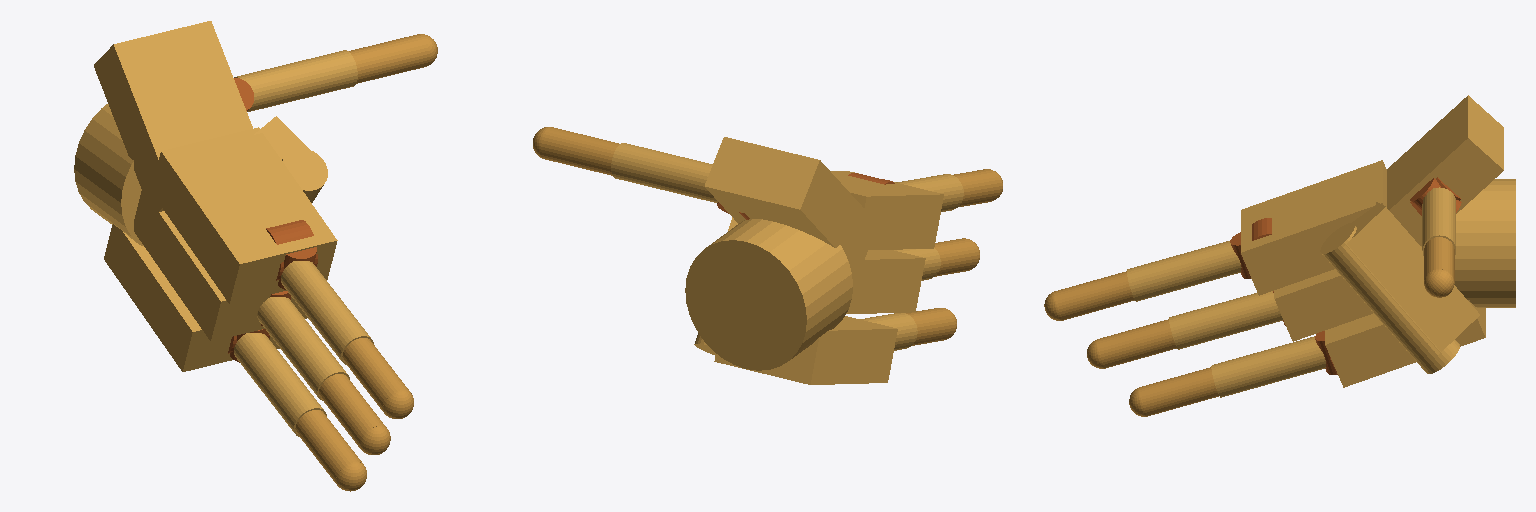
--- What the picture shows (computed from the rendered views, not written in the file) ---
Views: 3 orthographic renders of the robot side by side, from view 1: azimuth 30°, elevation 25°; view 2: azimuth 150°, elevation 25°; view 3: azimuth 270°, elevation 25°.
Robot: atlas_sandia_hands — 30 links, 29 joints (12 revolute, 17 fixed); root link r_hand; default pose: all joints at 0.
Visible links, largest first — view 1: right_palm, right_f3_1, right_f0_1, right_f2_1, right_f1_1, right_f1_2, right_f2_2, right_f0_2, right_f3_2, right_f0_0; view 2: right_palm, right_f3_1, right_f3_2, right_f0_2, right_f2_2, right_f1_2, right_f0_1, right_f2_1, right_f1_1; view 3: right_palm, right_f2_1, right_f0_1, right_f1_1, right_f0_2, right_f2_2, right_f1_2, right_f3_1, right_f3_2, right_f0_0.
Link boxes in pixels (<box>): right_palm: <box>74,21,337,371</box>; right_f3_1: <box>234,50,357,111</box>; right_f0_1: <box>281,261,373,364</box>; right_f2_1: <box>234,333,326,436</box>; right_f1_1: <box>257,297,349,400</box>; right_f1_2: <box>319,374,390,454</box>; right_f2_2: <box>295,410,366,491</box>; right_f0_2: <box>342,338,413,418</box>; right_f3_2: <box>349,34,437,83</box>; right_f0_0: <box>266,220,317,289</box>; right_palm: <box>685,137,943,384</box>; right_f3_1: <box>611,143,717,202</box>; right_f3_2: <box>533,127,619,175</box>; right_f0_2: <box>953,169,1002,206</box>; right_f2_2: <box>906,308,956,345</box>; right_f1_2: <box>934,238,979,276</box>; right_f0_1: <box>896,174,963,211</box>; right_f2_1: <box>860,313,917,350</box>; right_f1_1: <box>894,248,940,280</box>; right_palm: <box>1241,95,1515,387</box>; right_f2_1: <box>1211,336,1325,397</box>; right_f0_1: <box>1127,241,1241,301</box>; right_f1_1: <box>1169,291,1282,349</box>; right_f0_2: <box>1044,271,1134,320</box>; right_f2_2: <box>1129,367,1218,416</box>; right_f1_2: <box>1087,319,1176,368</box>; right_f3_1: <box>1422,187,1455,255</box>; right_f3_2: <box>1424,237,1454,297</box>; right_f0_0: <box>1230,218,1271,278</box>.
Size in the robot's own frame: 0.196 by 0.2782 by 0.1924 metres.
Geometry: primitives only (box / cylinder / sphere), no mesh files.

robot.urdf — atlas_sandia_hands:
<?xml version="1.0" ?>
<!-- =================================================================================== -->
<!-- |    This document was autogenerated by xacro from /tmp/buildd/drcsim-nightly-2.4.0~hg20130418r510de8699c3e/ros/atlas_description/robots/atlas_sandia_hands.urdf.xacro | -->
<!-- |    EDITING THIS FILE BY HAND IS NOT RECOMMENDED                                 | -->
<!-- =================================================================================== -->
<robot name="atlas_sandia_hands" xmlns:xacro="http://www.ros.org/wiki/xacro">
  <link name="r_hand">
    <origin rpy="0 0 0" xyz="0 0 0"/>
  </link>
  <link name="right_palm">
    <origin rpy="0 0 0" xyz="0 0 0"/>
    <inertial>
      <mass value="1.303"/>
      <origin xyz="0 0 0"/>
      <!-- solid sphere with 5cm radius -->
      <inertia ixx="0.001303" ixy="0" ixz="0" iyy="0.001303" iyz="0" izz="0.001303"/>
    </inertial>
    <!-- begin simple shape approximation of palm -->
    <collision group="default">
      <origin rpy="0 1.57079632679 -0.9" xyz="0.069 0.016 0.038"/>
      <geometry>
        <cylinder length="0.100" radius="0.013"/>
      </geometry>
    </collision>
    <collision group="other">
      <origin rpy="0.41 0 -0.9" xyz="0.064 0.008 0.021"/>
      <geometry>
        <box size="0.09 .035 .05"/>
      </geometry>
    </collision>
    <collision group="other">
      <origin rpy="0 1.57079632679 0" xyz="0.02 0 -0.005"/>
      <geometry>
        <cylinder length="0.05" radius="0.038"/>
      </geometry>
    </collision>
    <collision group="other">
      <origin rpy="0 0 0.37" xyz="0.11 -0.01 -0.005"/>
      <geometry>
        <box size="0.09 .03 .06"/>
      </geometry>
    </collision>
    <collision group="other">
      <origin rpy="0 0 0.37" xyz="0.09 0.02 -0.005"/>
      <geometry>
        <box size="0.09 .03 .06"/>
      </geometry>
    </collision>
    <collision group="other">
      <origin rpy="0 0 0.37" xyz="0.060 0.05 -0.005"/>
      <geometry>
        <box size="0.09 .03 .06"/>
      </geometry>
    </collision>
    <collision group="other">
      <origin rpy="0 0 0.79" xyz="0.044 -0.04 -0.005"/>
      <geometry>
        <box size="0.09 .03 .06"/>
      </geometry>
    </collision>
    <!--   end simple shape approximation of palm -->
    <!-- begin visual shape approximation of palm -->
    <visual>
      <origin rpy="0 1.57079632679 -0.9" xyz="0.069 0.016 0.038"/>
      <geometry>
        <cylinder length="0.100" radius="0.013"/>
      </geometry>
      <material name="right_sandia_hand_skin">
        <color rgba="0.835 0.655 0.345 1.0"/>
      </material>
    </visual>
    <visual>
      <origin rpy="0.41 0 -0.9" xyz="0.064 0.008 0.021"/>
      <geometry>
        <box size="0.09 .035 .05"/>
      </geometry>
      <material name="right_sandia_hand_skin">
        <color rgba="0.835 0.655 0.345 1.0"/>
      </material>
    </visual>
    <visual>
      <origin rpy="0 1.57079632679 0" xyz="0.02 0 -0.005"/>
      <geometry>
        <cylinder length="0.05" radius="0.038"/>
      </geometry>
      <material name="right_sandia_hand_skin">
        <color rgba="0.835 0.655 0.345 1.0"/>
      </material>
    </visual>
    <visual>
      <origin rpy="0 0 0.37" xyz="0.11 -0.01 -0.005"/>
      <geometry>
        <box size="0.09 .03 .06"/>
      </geometry>
      <material name="right_sandia_hand_skin">
        <color rgba="0.835 0.655 0.345 1.0"/>
      </material>
    </visual>
    <visual>
      <origin rpy="0 0 0.37" xyz="0.09 0.02 -0.005"/>
      <geometry>
        <box size="0.09 .03 .06"/>
      </geometry>
      <material name="right_sandia_hand_skin">
        <color rgba="0.835 0.655 0.345 1.0"/>
      </material>
    </visual>
    <visual>
      <origin rpy="0 0 0.37" xyz="0.060 0.05 -0.005"/>
      <geometry>
        <box size="0.09 .03 .06"/>
      </geometry>
      <material name="right_sandia_hand_skin">
        <color rgba="0.835 0.655 0.345 1.0"/>
      </material>
    </visual>
    <visual>
      <origin rpy="0 0 0.79" xyz="0.044 -0.04 -0.005"/>
      <geometry>
        <box size="0.09 .03 .06"/>
      </geometry>
      <material name="right_sandia_hand_skin">
        <color rgba="0.835 0.655 0.345 1.0"/>
      </material>
    </visual>
    <!--   end visual shape approximation of palm -->
    <!-- begin collision mesh of f2 ->
      <collision group="default">
        <origin xyz="0 0 0" rpy="0 0 0"/>
        <geometry>
          <mesh filename="package://sandia_hand_description/meshes/palm.stl"/>
        </geometry>
      </collision>
      <!-   end collision mesh of f2 -->
    <!-- begin visual mesh of f2    ->
      <visual>
        <origin xyz="0 0 0" rpy="0 0 0"/>
        <geometry>
          <mesh filename="package://sandia_hand_description/meshes/palm.stl"/>
        </geometry>
        <material name="${side}_sandia_hand_skin">
          <color rgba="0.835 0.655 0.345 1.0"/>
        </material>
      </visual>
      <!-   end visual mesh of f2 -->
  </link>
  <joint name="right_sandia_hand_joint" type="fixed">
    <parent link="r_hand"/>
    <child link="right_palm"/>
    <origin rpy="-1.57079 0 -1.57079" xyz="0 -0.1 0"/>
  </joint>
  <link name="right_f0_base">
    <origin rpy="0 0 0" xyz="0 0 0"/>
    <inertial>
      <!-- total mass is 2.303 kg, palm is about 1.303 kg, distribute the rest into _base -->
      <mass value="0.250"/>
      <!-- (2.303 - 1.303) / 4 -->
      <origin xyz="0 0 0"/>
      <!-- model as sphere with radius of 1cm -->
      <inertia ixx="0.00001" ixy="0" ixz="0" iyy="0.00001" iyz="0" izz="0.00001"/>
    </inertial>
  </link>
  <link name="right_f0_fixed_accel">
    <origin rpy="0 0 0" xyz="0 0 0"/>
    <inertial>
      <mass value="0.01"/>
      <origin xyz="0 0 0"/>
      <inertia ixx="0.000001" ixy="0" ixz="0" iyy="0.000001" iyz="0" izz="0.000001"/>
    </inertial>
  </link>
  <link name="right_f0_0">
    <origin rpy="0 0 0" xyz="0 0 0"/>
    <inertial>
      <mass value="0.106"/>
      <!-- F1 -->
      <origin xyz="0 0 0"/>
      <!-- solid cylinder -->
      <inertia ixx="0.000011925" ixy="0" ixz="0" iyy="0.00011505" iyz="0" izz="0.00011505"/>
    </inertial>
    <!-- begin simple shape approximation of f0 -->
    <collision group="default">
      <origin rpy="0 0 0" xyz="0 0 0.003"/>
      <geometry>
        <cylinder length="0.023" radius="0.015"/>
      </geometry>
    </collision>
    <collision group="other">
      <origin rpy="1.57079632679 0 0" xyz="0.011 0 0.003"/>
      <geometry>
        <cylinder length="0.023" radius="0.01"/>
      </geometry>
    </collision>
    <!--   end simple shape approximation of f0 -->
    <!-- begin visual shape approximation of f0 -->
    <visual>
      <origin rpy="0 0 0" xyz="0 0 0.003"/>
      <geometry>
        <cylinder length="0.023" radius="0.015"/>
      </geometry>
      <material name="right_sandia_hand_skin_suntan">
        <color rgba="0.7 0.4 0.2 1.0"/>
      </material>
    </visual>
    <visual>
      <origin rpy="1.57079632679 0 0" xyz="0.011 0 0.003"/>
      <geometry>
        <cylinder length="0.023" radius="0.01"/>
      </geometry>
      <material name="right_sandia_hand_skin_suntan">
        <color rgba="0.7 0.4 0.2 1.0"/>
      </material>
    </visual>
    <!--   end visual shape approximation of f0 -->
    <!-- begin collision mesh of f0 ->
      <collision group="default">
        <origin xyz="0 0 0" rpy="0 0 0"/>
        <geometry>
          <mesh filename="package://sandia_hand_description/meshes/f0.stl"/>
        </geometry>
      </collision>
      <!-   end collision mesh of f0 -->
    <!-- begin visual mesh of f0 ->
      <visual>
        <origin xyz="0 0 0" rpy="0 0 0"/>
        <geometry>
          <mesh filename="package://sandia_hand_description/meshes/f0.stl"/>
        </geometry>
        <material name="${side}_sandia_hand_skin_suntan">
          <color rgba="0.7 0.4 0.2 1.0"/>
        </material>
      </visual>
      <!-   end visual mesh of f0 -->
  </link>
  <link name="right_f0_1">
    <origin rpy="0 0 0" xyz="0 0 0"/>
    <inertial>
      <mass value="0.033"/>
      <!-- F2 -->
      <origin xyz="0 0 0"/>
      <!-- solid cylinder -->
      <inertia ixx="0.00000165" ixy="0" ixz="0" iyy="0.00001316975" iyz="0" izz="0.00001316975"/>
    </inertial>
    <!-- begin simple shape approximation of f1 -->
    <collision group="default">
      <origin rpy="0 1.57079632679 0" xyz="0.024 0 0"/>
      <geometry>
        <cylinder length="0.067" radius="0.01"/>
      </geometry>
    </collision>
    <!--   end simple shape approximation of f1 -->
    <!-- begin visual shape approximation of f1 -->
    <visual>
      <origin rpy="0 1.57079632679 0" xyz="0.024 0 0"/>
      <geometry>
        <cylinder length="0.067" radius="0.01"/>
      </geometry>
      <material name="right_sandia_hand_skin">
        <color rgba="0.835 0.655 0.345 1.0"/>
      </material>
    </visual>
    <!--   end visual shape approximation of f1 -->
    <!-- begin collision mesh of f1 ->
      <collision group="default">
        <origin xyz="0 0 0" rpy="0 0 0"/>
        <geometry>
          <mesh filename="package://sandia_hand_description/meshes/f1.stl"/>
        </geometry>
      </collision>
      <!-   end collision mesh of f1 -->
    <!-- begin visual mesh of f1 ->
      <visual>
        <origin xyz="0 0 0" rpy="0 0 0"/>
        <geometry>
          <mesh filename="package://sandia_hand_description/meshes/f1.stl"/>
        </geometry>
        <material name="${side}_sandia_hand_skin">
          <color rgba="0.835 0.655 0.345 1.0"/>
        </material>
      </visual>
      <!-   end visual mesh of f1 -->
  </link>
  <link name="right_f0_1_accel">
    <origin rpy="0 0 0" xyz="0 0 0"/>
    <inertial>
      <mass value="0.01"/>
      <origin xyz="0 0 0"/>
      <inertia ixx="0.000001" ixy="0" ixz="0" iyy="0.000001" iyz="0" izz="0.000001"/>
    </inertial>
  </link>
  <link name="right_f0_2">
    <origin rpy="0 0 0" xyz="0 0 0"/>
    <inertial>
      <mass value="0.033"/>
      <!-- F3 -->
      <origin xyz="0 0 0"/>
      <!-- solid cylinder -->
      <inertia ixx="0.0000013365" ixy="0" ixz="0" iyy="0.000009603" iyz="0" izz="0.000009603"/>
    </inertial>
    <!-- begin simple shape approximation of f2 -->
    <collision group="default">
      <origin rpy="0 1.57079632679 0" xyz="0.024 0 0"/>
      <geometry>
        <cylinder length="0.057" radius="0.009"/>
      </geometry>
    </collision>
    <collision group="other">
      <origin rpy="0 0 0" xyz="0.052 0 0"/>
      <geometry>
        <sphere radius="0.009"/>
      </geometry>
    </collision>
    <!--   end simple shape approximation of f2 -->
    <!-- begin visual shape approximation of f2 -->
    <visual>
      <origin rpy="0 1.57079632679 0" xyz="0.024 0 0"/>
      <geometry>
        <cylinder length="0.057" radius="0.009"/>
      </geometry>
      <material name="right_sandia_hand_skin_suntan">
        <color rgba="0.8 0.6 0.3 1.0"/>
      </material>
    </visual>
    <visual>
      <origin rpy="0 0 0" xyz="0.052 0 0"/>
      <geometry>
        <sphere radius="0.009"/>
      </geometry>
      <material name="right_sandia_hand_skin_suntan">
        <color rgba="0.8 0.6 0.3 1.0"/>
      </material>
    </visual>
    <!-- begin collision mesh of f2    ->
      <collision group="default">
        <origin xyz="0 0 0" rpy="0 0 0"/>
        <geometry>
          <mesh filename="package://sandia_hand_description/meshes/f2.stl"/>
        </geometry>
      </collision>
      <!-   end collision mesh of f2 -->
    <!-- begin visual mesh of f2    ->
      <visual>
        <origin xyz="0 0 0" rpy="0 0 0"/>
        <geometry>
          <mesh filename="package://sandia_hand_description/meshes/f2.stl"/>
        </geometry>
        <material name="${side}_sandia_hand_skin_suntan">
          <color rgba="0.8 0.6 0.3 1.0"/>
        </material>
      </visual>
      <!-   end visual mesh of f2 -->
  </link>
  <link name="right_f0_2_accel">
    <origin rpy="0 0 0" xyz="0 0 0"/>
    <inertial>
      <mass value="0.01"/>
      <origin xyz="0 0 0"/>
      <inertia ixx="0.000001" ixy="0" ixz="0" iyy="0.000001" iyz="0" izz="0.000001"/>
    </inertial>
  </link>
  <joint name="right_f0_base" type="fixed">
    <parent link="right_palm"/>
    <child link="right_f0_base"/>
    <origin rpy="0 0 0.3" xyz="0.14 0.0 0"/>
  </joint>
  <joint name="right_f0_j0" type="revolute">
    <axis xyz="0 0 1"/>
    <parent link="right_f0_base"/>
    <child link="right_f0_0"/>
    <limit effort="11" lower="-1.57079632679" upper="1.57079632679" velocity="100"/>
    <safety_controller k_position="1000.0" k_velocity="1000.0" soft_lower_limit="-11.57079" soft_upper_limit="11.57079"/>
    <dynamics damping="30"/>
    <origin rpy="0 0 0" xyz="0 0 0"/>
  </joint>
  <joint name="right_f0_j1" type="revolute">
    <axis xyz="0 0 1"/>
    <parent link="right_f0_0"/>
    <child link="right_f0_1"/>
    <limit effort="28" lower="-1.57079632679" upper="1.57079632679" velocity="100"/>
    <safety_controller k_position="1000.0" k_velocity="1000.0" soft_lower_limit="-11.57079" soft_upper_limit="11.57079"/>
    <dynamics damping="30"/>
    <origin rpy="1.57079632679 0 0" xyz="0.028 0 0"/>
  </joint>
  <joint name="right_f0_j2" type="revolute">
    <axis xyz="0 0 1"/>
    <parent link="right_f0_1"/>
    <child link="right_f0_2"/>
    <origin rpy="0 0 0" xyz="0.05 0 0"/>
    <safety_controller k_position="1000.0" k_velocity="1000.0" soft_lower_limit="-11.57079" soft_upper_limit="11.57079"/>
    <dynamics damping="30"/>
    <limit effort="28" lower="-1.57079632679" upper="1.57079632679" velocity="100"/>
  </joint>
  <joint name="right_f0_fixed_accel" type="fixed">
    <parent link="right_f0_base"/>
    <child link="right_f0_fixed_accel"/>
    <origin rpy="0 0 0" xyz="-0.05 0 0"/>
  </joint>
  <joint name="right_f0_1_accel" type="fixed">
    <parent link="right_f0_1"/>
    <child link="right_f0_1_accel"/>
    <origin rpy="-1.57079632679 0 0" xyz="0.03 0 0"/>
  </joint>
  <joint name="right_f0_2_accel" type="fixed">
    <parent link="right_f0_2"/>
    <child link="right_f0_2_accel"/>
    <origin rpy="-1.57079632679 0 0" xyz="0.04 0 0"/>
  </joint>
  <transmission name="right_f0_j0" type="pr2_mechanism_model/SimpleTransmission">
    <joint name="right_f0_j0"/>
    <actuator name="right_f0_j0_motor"/>
    <mechanicalReduction>1</mechanicalReduction>
  </transmission>
  <transmission name="right_f0_j1" type="pr2_mechanism_model/SimpleTransmission">
    <joint name="right_f0_j1"/>
    <actuator name="right_f0_j1_motor"/>
    <mechanicalReduction>1</mechanicalReduction>
  </transmission>
  <transmission name="right_f0_j2" type="pr2_mechanism_model/SimpleTransmission">
    <joint name="right_f0_j2"/>
    <actuator name="right_f0_j2_motor"/>
    <mechanicalReduction>1</mechanicalReduction>
  </transmission>
  <gazebo reference="right_f0_base">
    <mu1>0.9</mu1>
    <mu2>0.9</mu2>
    <kp>1000000000.0</kp>
    <kd>1.0</kd>
    <maxVel>0.1</maxVel>
    <minDepth>0.0</minDepth>
  </gazebo>
  <gazebo reference="right_f0_0">
    <mu1>0.9</mu1>
    <mu2>0.9</mu2>
    <kp>1000000000.0</kp>
    <kd>1.0</kd>
    <maxVel>0.1</maxVel>
    <minDepth>0.0</minDepth>
  </gazebo>
  <gazebo reference="right_f0_1">
    <mu1>0.9</mu1>
    <mu2>0.9</mu2>
    <kp>1000000000.0</kp>
    <kd>1.0</kd>
    <maxVel>1.0</maxVel>
    <minDepth>0.0</minDepth>
  </gazebo>
  <gazebo reference="right_f0_2">
    <mu1>0.9</mu1>
    <mu2>0.9</mu2>
    <kp>1000000000.0</kp>
    <kd>1.0</kd>
    <maxVel>1.0</maxVel>
    <minDepth>0.0</minDepth>
  </gazebo>
  <gazebo reference="right_f0_j0">
    <cfmDamping>1</cfmDamping>
  </gazebo>
  <gazebo reference="right_f0_j1">
    <cfmDamping>1</cfmDamping>
  </gazebo>
  <gazebo reference="right_f0_j2">
    <cfmDamping>1</cfmDamping>
  </gazebo>
  <link name="right_f1_base">
    <origin rpy="0 0 0" xyz="0 0 0"/>
    <inertial>
      <!-- total mass is 2.303 kg, palm is about 1.303 kg, distribute the rest into _base -->
      <mass value="0.250"/>
      <!-- (2.303 - 1.303) / 4 -->
      <origin xyz="0 0 0"/>
      <!-- model as sphere with radius of 1cm -->
      <inertia ixx="0.00001" ixy="0" ixz="0" iyy="0.00001" iyz="0" izz="0.00001"/>
    </inertial>
  </link>
  <link name="right_f1_fixed_accel">
    <origin rpy="0 0 0" xyz="0 0 0"/>
    <inertial>
      <mass value="0.01"/>
      <origin xyz="0 0 0"/>
      <inertia ixx="0.000001" ixy="0" ixz="0" iyy="0.000001" iyz="0" izz="0.000001"/>
    </inertial>
  </link>
  <link name="right_f1_0">
    <origin rpy="0 0 0" xyz="0 0 0"/>
    <inertial>
      <mass value="0.106"/>
      <!-- F1 -->
      <origin xyz="0 0 0"/>
      <!-- solid cylinder -->
      <inertia ixx="0.000011925" ixy="0" ixz="0" iyy="0.00011505" iyz="0" izz="0.00011505"/>
    </inertial>
    <!-- begin simple shape approximation of f0 -->
    <collision group="default">
      <origin rpy="0 0 0" xyz="0 0 0.003"/>
      <geometry>
        <cylinder length="0.023" radius="0.015"/>
      </geometry>
    </collision>
    <collision group="other">
      <origin rpy="1.57079632679 0 0" xyz="0.011 0 0.003"/>
      <geometry>
        <cylinder length="0.023" radius="0.01"/>
      </geometry>
    </collision>
    <!--   end simple shape approximation of f0 -->
    <!-- begin visual shape approximation of f0 -->
    <visual>
      <origin rpy="0 0 0" xyz="0 0 0.003"/>
      <geometry>
        <cylinder length="0.023" radius="0.015"/>
      </geometry>
      <material name="right_sandia_hand_skin_suntan">
        <color rgba="0.7 0.4 0.2 1.0"/>
      </material>
    </visual>
    <visual>
      <origin rpy="1.57079632679 0 0" xyz="0.011 0 0.003"/>
      <geometry>
        <cylinder length="0.023" radius="0.01"/>
      </geometry>
      <material name="right_sandia_hand_skin_suntan">
        <color rgba="0.7 0.4 0.2 1.0"/>
      </material>
    </visual>
    <!--   end visual shape approximation of f0 -->
    <!-- begin collision mesh of f0 ->
      <collision group="default">
        <origin xyz="0 0 0" rpy="0 0 0"/>
        <geometry>
          <mesh filename="package://sandia_hand_description/meshes/f0.stl"/>
        </geometry>
      </collision>
      <!-   end collision mesh of f0 -->
    <!-- begin visual mesh of f0 ->
      <visual>
        <origin xyz="0 0 0" rpy="0 0 0"/>
        <geometry>
          <mesh filename="package://sandia_hand_description/meshes/f0.stl"/>
        </geometry>
        <material name="${side}_sandia_hand_skin_suntan">
          <color rgba="0.7 0.4 0.2 1.0"/>
        </material>
      </visual>
      <!-   end visual mesh of f0 -->
  </link>
  <link name="right_f1_1">
    <origin rpy="0 0 0" xyz="0 0 0"/>
    <inertial>
      <mass value="0.033"/>
      <!-- F2 -->
      <origin xyz="0 0 0"/>
      <!-- solid cylinder -->
      <inertia ixx="0.00000165" ixy="0" ixz="0" iyy="0.00001316975" iyz="0" izz="0.00001316975"/>
    </inertial>
    <!-- begin simple shape approximation of f1 -->
    <collision group="default">
      <origin rpy="0 1.57079632679 0" xyz="0.024 0 0"/>
      <geometry>
        <cylinder length="0.067" radius="0.01"/>
      </geometry>
    </collision>
    <!--   end simple shape approximation of f1 -->
    <!-- begin visual shape approximation of f1 -->
    <visual>
      <origin rpy="0 1.57079632679 0" xyz="0.024 0 0"/>
      <geometry>
        <cylinder length="0.067" radius="0.01"/>
      </geometry>
      <material name="right_sandia_hand_skin">
        <color rgba="0.835 0.655 0.345 1.0"/>
      </material>
    </visual>
    <!--   end visual shape approximation of f1 -->
    <!-- begin collision mesh of f1 ->
      <collision group="default">
        <origin xyz="0 0 0" rpy="0 0 0"/>
        <geometry>
          <mesh filename="package://sandia_hand_description/meshes/f1.stl"/>
        </geometry>
      </collision>
      <!-   end collision mesh of f1 -->
    <!-- begin visual mesh of f1 ->
      <visual>
        <origin xyz="0 0 0" rpy="0 0 0"/>
        <geometry>
          <mesh filename="package://sandia_hand_description/meshes/f1.stl"/>
        </geometry>
        <material name="${side}_sandia_hand_skin">
          <color rgba="0.835 0.655 0.345 1.0"/>
        </material>
      </visual>
      <!-   end visual mesh of f1 -->
  </link>
  <link name="right_f1_1_accel">
    <origin rpy="0 0 0" xyz="0 0 0"/>
    <inertial>
      <mass value="0.01"/>
      <origin xyz="0 0 0"/>
      <inertia ixx="0.000001" ixy="0" ixz="0" iyy="0.000001" iyz="0" izz="0.000001"/>
    </inertial>
  </link>
  <link name="right_f1_2">
    <origin rpy="0 0 0" xyz="0 0 0"/>
    <inertial>
      <mass value="0.033"/>
      <!-- F3 -->
      <origin xyz="0 0 0"/>
      <!-- solid cylinder -->
      <inertia ixx="0.0000013365" ixy="0" ixz="0" iyy="0.000009603" iyz="0" izz="0.000009603"/>
    </inertial>
    <!-- begin simple shape approximation of f2 -->
    <collision group="default">
      <origin rpy="0 1.57079632679 0" xyz="0.024 0 0"/>
      <geometry>
        <cylinder length="0.057" radius="0.009"/>
      </geometry>
    </collision>
    <collision group="other">
      <origin rpy="0 0 0" xyz="0.052 0 0"/>
      <geometry>
        <sphere radius="0.009"/>
      </geometry>
    </collision>
    <!--   end simple shape approximation of f2 -->
    <!-- begin visual shape approximation of f2 -->
    <visual>
      <origin rpy="0 1.57079632679 0" xyz="0.024 0 0"/>
      <geometry>
        <cylinder length="0.057" radius="0.009"/>
      </geometry>
      <material name="right_sandia_hand_skin_suntan">
        <color rgba="0.8 0.6 0.3 1.0"/>
      </material>
    </visual>
    <visual>
      <origin rpy="0 0 0" xyz="0.052 0 0"/>
      <geometry>
        <sphere radius="0.009"/>
      </geometry>
      <material name="right_sandia_hand_skin_suntan">
        <color rgba="0.8 0.6 0.3 1.0"/>
      </material>
    </visual>
    <!-- begin collision mesh of f2    ->
      <collision group="default">
        <origin xyz="0 0 0" rpy="0 0 0"/>
        <geometry>
          <mesh filename="package://sandia_hand_description/meshes/f2.stl"/>
        </geometry>
      </collision>
      <!-   end collision mesh of f2 -->
    <!-- begin visual mesh of f2    ->
      <visual>
        <origin xyz="0 0 0" rpy="0 0 0"/>
        <geometry>
          <mesh filename="package://sandia_hand_description/meshes/f2.stl"/>
        </geometry>
        <material name="${side}_sandia_hand_skin_suntan">
          <color rgba="0.8 0.6 0.3 1.0"/>
        </material>
      </visual>
      <!-   end visual mesh of f2 -->
  </link>
  <link name="right_f1_2_accel">
    <origin rpy="0 0 0" xyz="0 0 0"/>
    <inertial>
      <mass value="0.01"/>
      <origin xyz="0 0 0"/>
      <inertia ixx="0.000001" ixy="0" ixz="0" iyy="0.000001" iyz="0" izz="0.000001"/>
    </inertial>
  </link>
  <joint name="right_f1_base" type="fixed">
    <parent link="right_palm"/>
    <child link="right_f1_base"/>
    <origin rpy="0 0 0.3" xyz="0.115 0.03122 0"/>
  </joint>
  <joint name="right_f1_j0" type="revolute">
    <axis xyz="0 0 1"/>
    <parent link="right_f1_base"/>
    <child link="right_f1_0"/>
    <limit effort="11" lower="-1.57079632679" upper="1.57079632679" velocity="100"/>
    <safety_controller k_position="1000.0" k_velocity="1000.0" soft_lower_limit="-11.57079" soft_upper_limit="11.57079"/>
    <dynamics damping="30"/>
    <origin rpy="0 0 0" xyz="0 0 0"/>
  </joint>
  <joint name="right_f1_j1" type="revolute">
    <axis xyz="0 0 1"/>
    <parent link="right_f1_0"/>
    <child link="right_f1_1"/>
    <limit effort="28" lower="-1.57079632679" upper="1.57079632679" velocity="100"/>
    <safety_controller k_position="1000.0" k_velocity="1000.0" soft_lower_limit="-11.57079" soft_upper_limit="11.57079"/>
    <dynamics damping="30"/>
    <origin rpy="1.57079632679 0 0" xyz="0.028 0 0"/>
  </joint>
  <joint name="right_f1_j2" type="revolute">
    <axis xyz="0 0 1"/>
    <parent link="right_f1_1"/>
    <child link="right_f1_2"/>
    <origin rpy="0 0 0" xyz="0.05 0 0"/>
    <safety_controller k_position="1000.0" k_velocity="1000.0" soft_lower_limit="-11.57079" soft_upper_limit="11.57079"/>
    <dynamics damping="30"/>
    <limit effort="28" lower="-1.57079632679" upper="1.57079632679" velocity="100"/>
  </joint>
  <joint name="right_f1_fixed_accel" type="fixed">
    <parent link="right_f1_base"/>
    <child link="right_f1_fixed_accel"/>
    <origin rpy="0 0 0" xyz="-0.05 0 0"/>
  </joint>
  <joint name="right_f1_1_accel" type="fixed">
    <parent link="right_f1_1"/>
    <child link="right_f1_1_accel"/>
    <origin rpy="-1.57079632679 0 0" xyz="0.03 0 0"/>
  </joint>
  <joint name="right_f1_2_accel" type="fixed">
    <parent link="right_f1_2"/>
    <child link="right_f1_2_accel"/>
    <origin rpy="-1.57079632679 0 0" xyz="0.04 0 0"/>
  </joint>
  <transmission name="right_f1_j0" type="pr2_mechanism_model/SimpleTransmission">
    <joint name="right_f1_j0"/>
    <actuator name="right_f1_j0_motor"/>
    <mechanicalReduction>1</mechanicalReduction>
  </transmission>
  <transmission name="right_f1_j1" type="pr2_mechanism_model/SimpleTransmission">
    <joint name="right_f1_j1"/>
    <actuator name="right_f1_j1_motor"/>
    <mechanicalReduction>1</mechanicalReduction>
  </transmission>
  <transmission name="right_f1_j2" type="pr2_mechanism_model/SimpleTransmission">
    <joint name="right_f1_j2"/>
    <actuator name="right_f1_j2_motor"/>
    <mechanicalReduction>1</mechanicalReduction>
  </transmission>
  <gazebo reference="right_f1_base">
    <mu1>0.9</mu1>
    <mu2>0.9</mu2>
    <kp>1000000000.0</kp>
    <kd>1.0</kd>
    <maxVel>0.1</maxVel>
    <minDepth>0.0</minDepth>
  </gazebo>
  <gazebo reference="right_f1_0">
    <mu1>0.9</mu1>
    <mu2>0.9</mu2>
    <kp>1000000000.0</kp>
    <kd>1.0</kd>
    <maxVel>0.1</maxVel>
    <minDepth>0.0</minDepth>
  </gazebo>
  <gazebo reference="right_f1_1">
    <mu1>0.9</mu1>
    <mu2>0.9</mu2>
    <kp>1000000000.0</kp>
    <kd>1.0</kd>
    <maxVel>1.0</maxVel>
    <minDepth>0.0</minDepth>
  </gazebo>
  <gazebo reference="right_f1_2">
    <mu1>0.9</mu1>
    <mu2>0.9</mu2>
    <kp>1000000000.0</kp>
    <kd>1.0</kd>
    <maxVel>1.0</maxVel>
    <minDepth>0.0</minDepth>
  </gazebo>
  <gazebo reference="right_f1_j0">
    <cfmDamping>1</cfmDamping>
  </gazebo>
  <gazebo reference="right_f1_j1">
    <cfmDamping>1</cfmDamping>
  </gazebo>
  <gazebo reference="right_f1_j2">
    <cfmDamping>1</cfmDamping>
  </gazebo>
  <link name="right_f2_base">
    <origin rpy="0 0 0" xyz="0 0 0"/>
    <inertial>
      <!-- total mass is 2.303 kg, palm is about 1.303 kg, distribute the rest into _base -->
      <mass value="0.250"/>
      <!-- (2.303 - 1.303) / 4 -->
      <origin xyz="0 0 0"/>
      <!-- model as sphere with radius of 1cm -->
      <inertia ixx="0.00001" ixy="0" ixz="0" iyy="0.00001" iyz="0" izz="0.00001"/>
    </inertial>
  </link>
  <link name="right_f2_fixed_accel">
    <origin rpy="0 0 0" xyz="0 0 0"/>
    <inertial>
      <mass value="0.01"/>
      <origin xyz="0 0 0"/>
      <inertia ixx="0.000001" ixy="0" ixz="0" iyy="0.000001" iyz="0" izz="0.000001"/>
    </inertial>
  </link>
  <link name="right_f2_0">
    <origin rpy="0 0 0" xyz="0 0 0"/>
    <inertial>
      <mass value="0.106"/>
      <!-- F1 -->
      <origin xyz="0 0 0"/>
      <!-- solid cylinder -->
      <inertia ixx="0.000011925" ixy="0" ixz="0" iyy="0.00011505" iyz="0" izz="0.00011505"/>
    </inertial>
    <!-- begin simple shape approximation of f0 -->
    <collision group="default">
      <origin rpy="0 0 0" xyz="0 0 0.003"/>
      <geometry>
        <cylinder length="0.023" radius="0.015"/>
      </geometry>
    </collision>
    <collision group="other">
      <origin rpy="1.57079632679 0 0" xyz="0.011 0 0.003"/>
      <geometry>
        <cylinder length="0.023" radius="0.01"/>
      </geometry>
    </collision>
    <!--   end simple shape approximation of f0 -->
    <!-- begin visual shape approximation of f0 -->
    <visual>
      <origin rpy="0 0 0" xyz="0 0 0.003"/>
      <geometry>
        <cylinder length="0.023" radius="0.015"/>
      </geometry>
      <material name="right_sandia_hand_skin_suntan">
        <color rgba="0.7 0.4 0.2 1.0"/>
      </material>
    </visual>
    <visual>
      <origin rpy="1.57079632679 0 0" xyz="0.011 0 0.003"/>
      <geometry>
        <cylinder length="0.023" radius="0.01"/>
      </geometry>
      <material name="right_sandia_hand_skin_suntan">
        <color rgba="0.7 0.4 0.2 1.0"/>
      </material>
    </visual>
    <!--   end visual shape approximation of f0 -->
    <!-- begin collision mesh of f0 ->
      <collision group="default">
        <origin xyz="0 0 0" rpy="0 0 0"/>
        <geometry>
          <mesh filename="package://sandia_hand_description/meshes/f0.stl"/>
        </geometry>
      </collision>
      <!-   end collision mesh of f0 -->
    <!-- begin visual mesh of f0 ->
      <visual>
        <origin xyz="0 0 0" rpy="0 0 0"/>
        <geometry>
          <mesh filename="package://sandia_hand_description/meshes/f0.stl"/>
        </geometry>
        <material name="${side}_sandia_hand_skin_suntan">
          <color rgba="0.7 0.4 0.2 1.0"/>
        </material>
      </visual>
      <!-   end visual mesh of f0 -->
  </link>
  <link name="right_f2_1">
    <origin rpy="0 0 0" xyz="0 0 0"/>
    <inertial>
      <mass value="0.033"/>
      <!-- F2 -->
      <origin xyz="0 0 0"/>
      <!-- solid cylinder -->
      <inertia ixx="0.00000165" ixy="0" ixz="0" iyy="0.00001316975" iyz="0" izz="0.00001316975"/>
    </inertial>
    <!-- begin simple shape approximation of f1 -->
    <collision group="default">
      <origin rpy="0 1.57079632679 0" xyz="0.024 0 0"/>
      <geometry>
        <cylinder length="0.067" radius="0.01"/>
      </geometry>
    </collision>
    <!--   end simple shape approximation of f1 -->
    <!-- begin visual shape approximation of f1 -->
    <visual>
      <origin rpy="0 1.57079632679 0" xyz="0.024 0 0"/>
      <geometry>
        <cylinder length="0.067" radius="0.01"/>
      </geometry>
      <material name="right_sandia_hand_skin">
        <color rgba="0.835 0.655 0.345 1.0"/>
      </material>
    </visual>
    <!--   end visual shape approximation of f1 -->
    <!-- begin collision mesh of f1 ->
      <collision group="default">
        <origin xyz="0 0 0" rpy="0 0 0"/>
        <geometry>
          <mesh filename="package://sandia_hand_description/meshes/f1.stl"/>
        </geometry>
      </collision>
      <!-   end collision mesh of f1 -->
    <!-- begin visual mesh of f1 ->
      <visual>
        <origin xyz="0 0 0" rpy="0 0 0"/>
        <geometry>
          <mesh filename="package://sandia_hand_description/meshes/f1.stl"/>
        </geometry>
        <material name="${side}_sandia_hand_skin">
          <color rgba="0.835 0.655 0.345 1.0"/>
        </material>
      </visual>
      <!-   end visual mesh of f1 -->
  </link>
  <link name="right_f2_1_accel">
    <origin rpy="0 0 0" xyz="0 0 0"/>
    <inertial>
      <mass value="0.01"/>
      <origin xyz="0 0 0"/>
      <inertia ixx="0.000001" ixy="0" ixz="0" iyy="0.000001" iyz="0" izz="0.000001"/>
    </inertial>
  </link>
  <link name="right_f2_2">
    <origin rpy="0 0 0" xyz="0 0 0"/>
    <inertial>
      <mass value="0.033"/>
      <!-- F3 -->
      <origin xyz="0 0 0"/>
      <!-- solid cylinder -->
      <inertia ixx="0.0000013365" ixy="0" ixz="0" iyy="0.000009603" iyz="0" izz="0.000009603"/>
    </inertial>
    <!-- begin simple shape approximation of f2 -->
    <collision group="default">
      <origin rpy="0 1.57079632679 0" xyz="0.024 0 0"/>
      <geometry>
        <cylinder length="0.057" radius="0.009"/>
      </geometry>
    </collision>
    <collision group="other">
      <origin rpy="0 0 0" xyz="0.052 0 0"/>
      <geometry>
        <sphere radius="0.009"/>
      </geometry>
    </collision>
    <!--   end simple shape approximation of f2 -->
    <!-- begin visual shape approximation of f2 -->
    <visual>
      <origin rpy="0 1.57079632679 0" xyz="0.024 0 0"/>
      <geometry>
        <cylinder length="0.057" radius="0.009"/>
      </geometry>
      <material name="right_sandia_hand_skin_suntan">
        <color rgba="0.8 0.6 0.3 1.0"/>
      </material>
    </visual>
    <visual>
      <origin rpy="0 0 0" xyz="0.052 0 0"/>
      <geometry>
        <sphere radius="0.009"/>
      </geometry>
      <material name="right_sandia_hand_skin_suntan">
        <color rgba="0.8 0.6 0.3 1.0"/>
      </material>
    </visual>
    <!-- begin collision mesh of f2    ->
      <collision group="default">
        <origin xyz="0 0 0" rpy="0 0 0"/>
        <geometry>
          <mesh filename="package://sandia_hand_description/meshes/f2.stl"/>
        </geometry>
      </collision>
      <!-   end collision mesh of f2 -->
    <!-- begin visual mesh of f2    ->
      <visual>
        <origin xyz="0 0 0" rpy="0 0 0"/>
        <geometry>
          <mesh filename="package://sandia_hand_description/meshes/f2.stl"/>
        </geometry>
        <material name="${side}_sandia_hand_skin_suntan">
          <color rgba="0.8 0.6 0.3 1.0"/>
        </material>
      </visual>
      <!-   end visual mesh of f2 -->
  </link>
  <link name="right_f2_2_accel">
    <origin rpy="0 0 0" xyz="0 0 0"/>
    <inertial>
      <mass value="0.01"/>
      <origin xyz="0 0 0"/>
      <inertia ixx="0.000001" ixy="0" ixz="0" iyy="0.000001" iyz="0" izz="0.000001"/>
    </inertial>
  </link>
  <joint name="right_f2_base" type="fixed">
    <parent link="right_palm"/>
    <child link="right_f2_base"/>
    <origin rpy="0 0 0.3" xyz="0.09 0.06245 0"/>
  </joint>
  <joint name="right_f2_j0" type="revolute">
    <axis xyz="0 0 1"/>
    <parent link="right_f2_base"/>
    <child link="right_f2_0"/>
    <limit effort="11" lower="-1.57079632679" upper="1.57079632679" velocity="100"/>
    <safety_controller k_position="1000.0" k_velocity="1000.0" soft_lower_limit="-11.57079" soft_upper_limit="11.57079"/>
    <dynamics damping="30"/>
    <origin rpy="0 0 0" xyz="0 0 0"/>
  </joint>
  <joint name="right_f2_j1" type="revolute">
    <axis xyz="0 0 1"/>
    <parent link="right_f2_0"/>
    <child link="right_f2_1"/>
    <limit effort="28" lower="-1.57079632679" upper="1.57079632679" velocity="100"/>
    <safety_controller k_position="1000.0" k_velocity="1000.0" soft_lower_limit="-11.57079" soft_upper_limit="11.57079"/>
    <dynamics damping="30"/>
    <origin rpy="1.57079632679 0 0" xyz="0.028 0 0"/>
  </joint>
  <joint name="right_f2_j2" type="revolute">
    <axis xyz="0 0 1"/>
    <parent link="right_f2_1"/>
    <child link="right_f2_2"/>
    <origin rpy="0 0 0" xyz="0.05 0 0"/>
    <safety_controller k_position="1000.0" k_velocity="1000.0" soft_lower_limit="-11.57079" soft_upper_limit="11.57079"/>
    <dynamics damping="30"/>
    <limit effort="28" lower="-1.57079632679" upper="1.57079632679" velocity="100"/>
  </joint>
  <joint name="right_f2_fixed_accel" type="fixed">
    <parent link="right_f2_base"/>
    <child link="right_f2_fixed_accel"/>
    <origin rpy="0 0 0" xyz="-0.05 0 0"/>
  </joint>
  <joint name="right_f2_1_accel" type="fixed">
    <parent link="right_f2_1"/>
    <child link="right_f2_1_accel"/>
    <origin rpy="-1.57079632679 0 0" xyz="0.03 0 0"/>
  </joint>
  <joint name="right_f2_2_accel" type="fixed">
    <parent link="right_f2_2"/>
    <child link="right_f2_2_accel"/>
    <origin rpy="-1.57079632679 0 0" xyz="0.04 0 0"/>
  </joint>
  <transmission name="right_f2_j0" type="pr2_mechanism_model/SimpleTransmission">
    <joint name="right_f2_j0"/>
    <actuator name="right_f2_j0_motor"/>
    <mechanicalReduction>1</mechanicalReduction>
  </transmission>
  <transmission name="right_f2_j1" type="pr2_mechanism_model/SimpleTransmission">
    <joint name="right_f2_j1"/>
    <actuator name="right_f2_j1_motor"/>
    <mechanicalReduction>1</mechanicalReduction>
  </transmission>
  <transmission name="right_f2_j2" type="pr2_mechanism_model/SimpleTransmission">
    <joint name="right_f2_j2"/>
    <actuator name="right_f2_j2_motor"/>
    <mechanicalReduction>1</mechanicalReduction>
  </transmission>
  <gazebo reference="right_f2_base">
    <mu1>0.9</mu1>
    <mu2>0.9</mu2>
    <kp>1000000000.0</kp>
    <kd>1.0</kd>
    <maxVel>0.1</maxVel>
    <minDepth>0.0</minDepth>
  </gazebo>
  <gazebo reference="right_f2_0">
    <mu1>0.9</mu1>
    <mu2>0.9</mu2>
    <kp>1000000000.0</kp>
    <kd>1.0</kd>
    <maxVel>0.1</maxVel>
    <minDepth>0.0</minDepth>
  </gazebo>
  <gazebo reference="right_f2_1">
    <mu1>0.9</mu1>
    <mu2>0.9</mu2>
    <kp>1000000000.0</kp>
    <kd>1.0</kd>
    <maxVel>1.0</maxVel>
    <minDepth>0.0</minDepth>
  </gazebo>
  <gazebo reference="right_f2_2">
    <mu1>0.9</mu1>
    <mu2>0.9</mu2>
    <kp>1000000000.0</kp>
    <kd>1.0</kd>
    <maxVel>1.0</maxVel>
    <minDepth>0.0</minDepth>
  </gazebo>
  <gazebo reference="right_f2_j0">
    <cfmDamping>1</cfmDamping>
  </gazebo>
  <gazebo reference="right_f2_j1">
    <cfmDamping>1</cfmDamping>
  </gazebo>
  <gazebo reference="right_f2_j2">
    <cfmDamping>1</cfmDamping>
  </gazebo>
  <link name="right_f3_base">
    <origin rpy="0 0 0" xyz="0 0 0"/>
    <inertial>
      <!-- total mass is 2.303 kg, palm is about 1.303 kg, distribute the rest into _base -->
      <mass value="0.250"/>
      <!-- (2.303 - 1.303) / 4 -->
      <origin xyz="0 0 0"/>
      <!-- model as sphere with radius of 1cm -->
      <inertia ixx="0.00001" ixy="0" ixz="0" iyy="0.00001" iyz="0" izz="0.00001"/>
    </inertial>
  </link>
  <link name="right_f3_fixed_accel">
    <origin rpy="0 0 0" xyz="0 0 0"/>
    <inertial>
      <mass value="0.01"/>
      <origin xyz="0 0 0"/>
      <inertia ixx="0.000001" ixy="0" ixz="0" iyy="0.000001" iyz="0" izz="0.000001"/>
    </inertial>
  </link>
  <link name="right_f3_0">
    <origin rpy="0 0 0" xyz="0 0 0"/>
    <inertial>
      <mass value="0.106"/>
      <!-- F1 -->
      <origin xyz="0 0 0"/>
      <!-- solid cylinder -->
      <inertia ixx="0.000011925" ixy="0" ixz="0" iyy="0.00011505" iyz="0" izz="0.00011505"/>
    </inertial>
    <!-- begin simple shape approximation of f0 -->
    <collision group="default">
      <origin rpy="0 0 0" xyz="0 0 0.003"/>
      <geometry>
        <cylinder length="0.023" radius="0.015"/>
      </geometry>
    </collision>
    <collision group="other">
      <origin rpy="1.57079632679 0 0" xyz="0.011 0 0.003"/>
      <geometry>
        <cylinder length="0.023" radius="0.01"/>
      </geometry>
    </collision>
    <!--   end simple shape approximation of f0 -->
    <!-- begin visual shape approximation of f0 -->
    <visual>
      <origin rpy="0 0 0" xyz="0 0 0.003"/>
      <geometry>
        <cylinder length="0.023" radius="0.015"/>
      </geometry>
      <material name="right_sandia_hand_skin_suntan">
        <color rgba="0.7 0.4 0.2 1.0"/>
      </material>
    </visual>
    <visual>
      <origin rpy="1.57079632679 0 0" xyz="0.011 0 0.003"/>
      <geometry>
        <cylinder length="0.023" radius="0.01"/>
      </geometry>
      <material name="right_sandia_hand_skin_suntan">
        <color rgba="0.7 0.4 0.2 1.0"/>
      </material>
    </visual>
    <!--   end visual shape approximation of f0 -->
    <!-- begin collision mesh of f0 ->
      <collision group="default">
        <origin xyz="0 0 0" rpy="0 0 0"/>
        <geometry>
          <mesh filename="package://sandia_hand_description/meshes/f0.stl"/>
        </geometry>
      </collision>
      <!-   end collision mesh of f0 -->
    <!-- begin visual mesh of f0 ->
      <visual>
        <origin xyz="0 0 0" rpy="0 0 0"/>
        <geometry>
          <mesh filename="package://sandia_hand_description/meshes/f0.stl"/>
        </geometry>
        <material name="${side}_sandia_hand_skin_suntan">
          <color rgba="0.7 0.4 0.2 1.0"/>
        </material>
      </visual>
      <!-   end visual mesh of f0 -->
  </link>
  <link name="right_f3_1">
    <origin rpy="0 0 0" xyz="0 0 0"/>
    <inertial>
      <mass value="0.033"/>
      <!-- F2 -->
      <origin xyz="0 0 0"/>
      <!-- solid cylinder -->
      <inertia ixx="0.00000165" ixy="0" ixz="0" iyy="0.00001316975" iyz="0" izz="0.00001316975"/>
    </inertial>
    <!-- begin simple shape approximation of f1 -->
    <collision group="default">
      <origin rpy="0 1.57079632679 0" xyz="0.024 0 0"/>
      <geometry>
        <cylinder length="0.067" radius="0.01"/>
      </geometry>
    </collision>
    <!--   end simple shape approximation of f1 -->
    <!-- begin visual shape approximation of f1 -->
    <visual>
      <origin rpy="0 1.57079632679 0" xyz="0.024 0 0"/>
      <geometry>
        <cylinder length="0.067" radius="0.01"/>
      </geometry>
      <material name="right_sandia_hand_skin">
        <color rgba="0.835 0.655 0.345 1.0"/>
      </material>
    </visual>
    <!--   end visual shape approximation of f1 -->
    <!-- begin collision mesh of f1 ->
      <collision group="default">
        <origin xyz="0 0 0" rpy="0 0 0"/>
        <geometry>
          <mesh filename="package://sandia_hand_description/meshes/f1.stl"/>
        </geometry>
      </collision>
      <!-   end collision mesh of f1 -->
    <!-- begin visual mesh of f1 ->
      <visual>
        <origin xyz="0 0 0" rpy="0 0 0"/>
        <geometry>
          <mesh filename="package://sandia_hand_description/meshes/f1.stl"/>
        </geometry>
        <material name="${side}_sandia_hand_skin">
          <color rgba="0.835 0.655 0.345 1.0"/>
        </material>
      </visual>
      <!-   end visual mesh of f1 -->
  </link>
  <link name="right_f3_1_accel">
    <origin rpy="0 0 0" xyz="0 0 0"/>
    <inertial>
      <mass value="0.01"/>
      <origin xyz="0 0 0"/>
      <inertia ixx="0.000001" ixy="0" ixz="0" iyy="0.000001" iyz="0" izz="0.000001"/>
    </inertial>
  </link>
  <link name="right_f3_2">
    <origin rpy="0 0 0" xyz="0 0 0"/>
    <inertial>
      <mass value="0.033"/>
      <!-- F3 -->
      <origin xyz="0 0 0"/>
      <!-- solid cylinder -->
      <inertia ixx="0.0000013365" ixy="0" ixz="0" iyy="0.000009603" iyz="0" izz="0.000009603"/>
    </inertial>
    <!-- begin simple shape approximation of f2 -->
    <collision group="default">
      <origin rpy="0 1.57079632679 0" xyz="0.024 0 0"/>
      <geometry>
        <cylinder length="0.057" radius="0.009"/>
      </geometry>
    </collision>
    <collision group="other">
      <origin rpy="0 0 0" xyz="0.052 0 0"/>
      <geometry>
        <sphere radius="0.009"/>
      </geometry>
    </collision>
    <!--   end simple shape approximation of f2 -->
    <!-- begin visual shape approximation of f2 -->
    <visual>
      <origin rpy="0 1.57079632679 0" xyz="0.024 0 0"/>
      <geometry>
        <cylinder length="0.057" radius="0.009"/>
      </geometry>
      <material name="right_sandia_hand_skin_suntan">
        <color rgba="0.8 0.6 0.3 1.0"/>
      </material>
    </visual>
    <visual>
      <origin rpy="0 0 0" xyz="0.052 0 0"/>
      <geometry>
        <sphere radius="0.009"/>
      </geometry>
      <material name="right_sandia_hand_skin_suntan">
        <color rgba="0.8 0.6 0.3 1.0"/>
      </material>
    </visual>
    <!-- begin collision mesh of f2    ->
      <collision group="default">
        <origin xyz="0 0 0" rpy="0 0 0"/>
        <geometry>
          <mesh filename="package://sandia_hand_description/meshes/f2.stl"/>
        </geometry>
      </collision>
      <!-   end collision mesh of f2 -->
    <!-- begin visual mesh of f2    ->
      <visual>
        <origin xyz="0 0 0" rpy="0 0 0"/>
        <geometry>
          <mesh filename="package://sandia_hand_description/meshes/f2.stl"/>
        </geometry>
        <material name="${side}_sandia_hand_skin_suntan">
          <color rgba="0.8 0.6 0.3 1.0"/>
        </material>
      </visual>
      <!-   end visual mesh of f2 -->
  </link>
  <link name="right_f3_2_accel">
    <origin rpy="0 0 0" xyz="0 0 0"/>
    <inertial>
      <mass value="0.01"/>
      <origin xyz="0 0 0"/>
      <inertia ixx="0.000001" ixy="0" ixz="0" iyy="0.000001" iyz="0" izz="0.000001"/>
    </inertial>
  </link>
  <joint name="right_f3_base" type="fixed">
    <parent link="right_palm"/>
    <child link="right_f3_base"/>
    <origin rpy="0 -1.57079632679 -2.3562" xyz="0.03995 -0.04383 0.014"/>
  </joint>
  <joint name="right_f3_j0" type="revolute">
    <axis xyz="0 0 1"/>
    <parent link="right_f3_base"/>
    <child link="right_f3_0"/>
    <limit effort="11" lower="-1.57079632679" upper="1.57079632679" velocity="100"/>
    <safety_controller k_position="1000.0" k_velocity="1000.0" soft_lower_limit="-11.57079" soft_upper_limit="11.57079"/>
    <dynamics damping="30"/>
    <origin rpy="0 0 0" xyz="0 0 0"/>
  </joint>
  <joint name="right_f3_j1" type="revolute">
    <axis xyz="0 0 1"/>
    <parent link="right_f3_0"/>
    <child link="right_f3_1"/>
    <limit effort="28" lower="-1.57079632679" upper="1.57079632679" velocity="100"/>
    <safety_controller k_position="1000.0" k_velocity="1000.0" soft_lower_limit="-11.57079" soft_upper_limit="11.57079"/>
    <dynamics damping="30"/>
    <origin rpy="1.57079632679 0 0" xyz="0.028 0 0"/>
  </joint>
  <joint name="right_f3_j2" type="revolute">
    <axis xyz="0 0 1"/>
    <parent link="right_f3_1"/>
    <child link="right_f3_2"/>
    <origin rpy="0 0 0" xyz="0.05 0 0"/>
    <safety_controller k_position="1000.0" k_velocity="1000.0" soft_lower_limit="-11.57079" soft_upper_limit="11.57079"/>
    <dynamics damping="30"/>
    <limit effort="28" lower="-1.57079632679" upper="1.57079632679" velocity="100"/>
  </joint>
  <joint name="right_f3_fixed_accel" type="fixed">
    <parent link="right_f3_base"/>
    <child link="right_f3_fixed_accel"/>
    <origin rpy="0 0 0" xyz="-0.05 0 0"/>
  </joint>
  <joint name="right_f3_1_accel" type="fixed">
    <parent link="right_f3_1"/>
    <child link="right_f3_1_accel"/>
    <origin rpy="-1.57079632679 0 0" xyz="0.03 0 0"/>
  </joint>
  <joint name="right_f3_2_accel" type="fixed">
    <parent link="right_f3_2"/>
    <child link="right_f3_2_accel"/>
    <origin rpy="-1.57079632679 0 0" xyz="0.04 0 0"/>
  </joint>
  <transmission name="right_f3_j0" type="pr2_mechanism_model/SimpleTransmission">
    <joint name="right_f3_j0"/>
    <actuator name="right_f3_j0_motor"/>
    <mechanicalReduction>1</mechanicalReduction>
  </transmission>
  <transmission name="right_f3_j1" type="pr2_mechanism_model/SimpleTransmission">
    <joint name="right_f3_j1"/>
    <actuator name="right_f3_j1_motor"/>
    <mechanicalReduction>1</mechanicalReduction>
  </transmission>
  <transmission name="right_f3_j2" type="pr2_mechanism_model/SimpleTransmission">
    <joint name="right_f3_j2"/>
    <actuator name="right_f3_j2_motor"/>
    <mechanicalReduction>1</mechanicalReduction>
  </transmission>
  <gazebo reference="right_f3_base">
    <mu1>0.9</mu1>
    <mu2>0.9</mu2>
    <kp>1000000000.0</kp>
    <kd>1.0</kd>
    <maxVel>0.1</maxVel>
    <minDepth>0.0</minDepth>
  </gazebo>
  <gazebo reference="right_f3_0">
    <mu1>0.9</mu1>
    <mu2>0.9</mu2>
    <kp>1000000000.0</kp>
    <kd>1.0</kd>
    <maxVel>0.1</maxVel>
    <minDepth>0.0</minDepth>
  </gazebo>
  <gazebo reference="right_f3_1">
    <mu1>0.9</mu1>
    <mu2>0.9</mu2>
    <kp>1000000000.0</kp>
    <kd>1.0</kd>
    <maxVel>1.0</maxVel>
    <minDepth>0.0</minDepth>
  </gazebo>
  <gazebo reference="right_f3_2">
    <mu1>0.9</mu1>
    <mu2>0.9</mu2>
    <kp>1000000000.0</kp>
    <kd>1.0</kd>
    <maxVel>1.0</maxVel>
    <minDepth>0.0</minDepth>
  </gazebo>
  <gazebo reference="right_f3_j0">
    <cfmDamping>1</cfmDamping>
  </gazebo>
  <gazebo reference="right_f3_j1">
    <cfmDamping>1</cfmDamping>
  </gazebo>
  <gazebo reference="right_f3_j2">
    <cfmDamping>1</cfmDamping>
  </gazebo>
  <gazebo reference="right_palm">
    <mu1>0.9</mu1>
    <mu2>0.9</mu2>
  </gazebo>
</robot>
